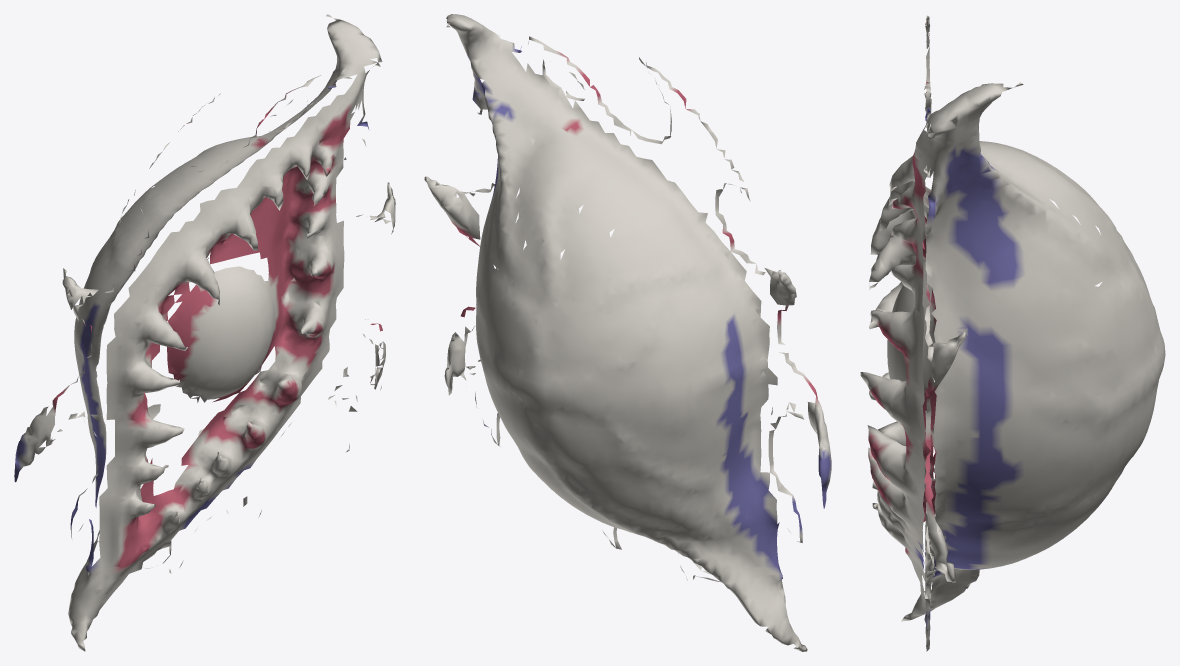
Rendered from mon3d_lo.glb.
3 renders of one model, left to right at view 1: azimuth 30°, elevation 25°; view 2: azimuth 150°, elevation 25°; view 3: azimuth 270°, elevation 25°, orthographic. The views are drawn at different scales.
Size of the model in its own units: 1.42 by 1.95 by 0.7393.
